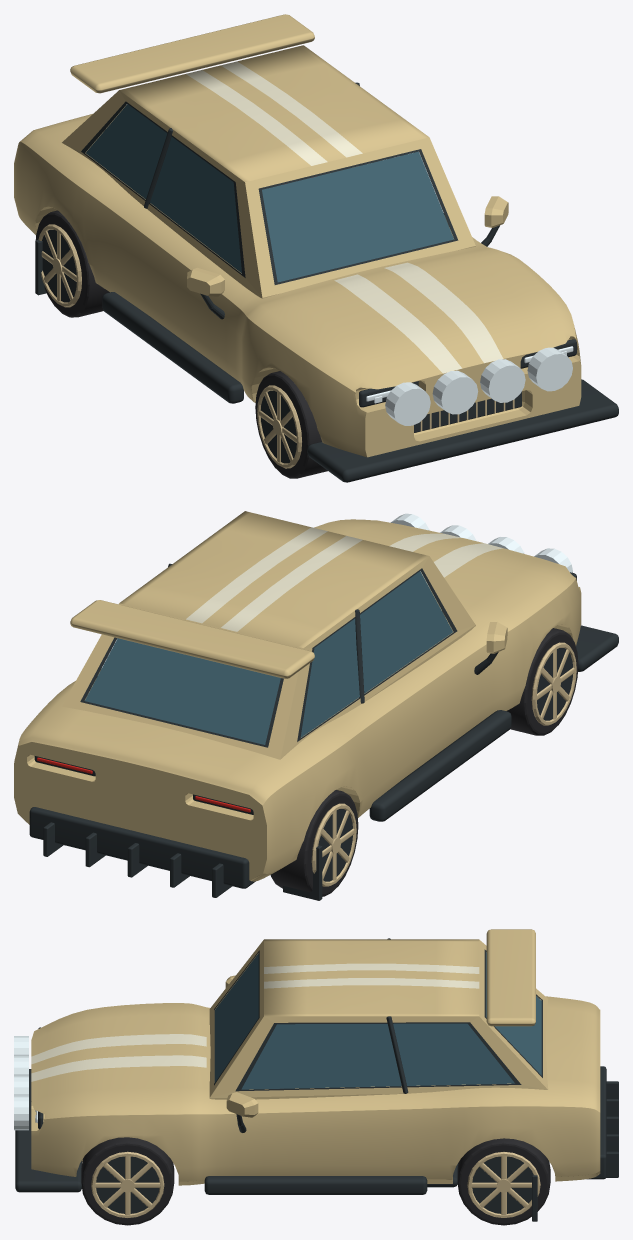
File: VEH_Rally_Hatch.glb
The picture shows the model from 3 angles, top to bottom: view 1: azimuth 30°, elevation 25°; view 2: azimuth 150°, elevation 25°; view 3: azimuth 270°, elevation 25°; orthographic projection. The views are drawn at different scales.
Parts seen in each view (by area): view 1: GT_sculpted_body, Continuous_roof_panel, Glass_windscreen, Glass_left, Hatch_roof_spoiler, Front_splitter, Integrated_windscreen_surround, Integrated_left_surround, Side_skirt, Tyre, Tyre.001, Gasket_windscreen (+12 smaller); view 2: GT_sculpted_body, Continuous_roof_panel, Glass_rear, Glass_left, Hatch_roof_spoiler, Rear_diffuser, Integrated_left_surround, Integrated_rear_surround, Side_skirt, Tyre.001, Tyre, Front_splitter (+8 smaller); view 3: GT_sculpted_body, Continuous_roof_panel, Glass_right, Integrated_right_surround, Hatch_roof_spoiler, Side_skirt.001, Glass_windscreen, Tyre.002, Tyre.003, Front_splitter, Rim_dark_inset.002, Rim_dark_inset.003 (+10 smaller).
Boxes of the visible parts, x1,y1,x2,y2 form: GT_sculpted_body: (14, 105, 581, 457); Continuous_roof_panel: (119, 45, 428, 182); Glass_windscreen: (262, 151, 453, 282); Glass_left: (86, 104, 241, 273); Hatch_roof_spoiler: (70, 14, 314, 93); Front_splitter: (307, 379, 618, 482); Integrated_windscreen_surround: (245, 137, 475, 297); Integrated_left_surround: (62, 90, 262, 297); Side_skirt: (102, 292, 243, 403); Tyre: (255, 371, 327, 478); Tyre.001: (35, 210, 109, 317); Gasket_windscreen: (258, 149, 458, 284); GT_sculpted_body: (14, 519, 581, 881); Continuous_roof_panel: (119, 511, 428, 647); Glass_rear: (85, 638, 280, 744); Glass_left: (300, 571, 452, 737); Hatch_roof_spoiler: (70, 600, 314, 678); Rear_diffuser: (29, 807, 255, 888); Integrated_left_surround: (280, 556, 475, 759); Integrated_rear_surround: (62, 603, 303, 759); Side_skirt: (369, 710, 511, 821); Tyre.001: (270, 790, 358, 896); Tyre: (506, 628, 578, 735); Front_splitter: (576, 625, 618, 671); GT_sculpted_body: (31, 996, 600, 1185); Continuous_roof_panel: (264, 939, 479, 1016); Glass_right: (241, 1023, 514, 1089); Integrated_right_surround: (210, 1016, 547, 1098); Hatch_roof_spoiler: (486, 929, 535, 1026); Side_skirt.001: (204, 1176, 427, 1194); Glass_windscreen: (215, 953, 258, 1082); Tyre.002: (81, 1137, 174, 1225); Tyre.003: (457, 1138, 550, 1225); Front_splitter: (15, 1069, 81, 1192); Rim_dark_inset.002: (96, 1156, 159, 1213); Rim_dark_inset.003: (472, 1156, 533, 1213).
Size of the model in its own units: 2.13 by 1.47 by 4.1.
